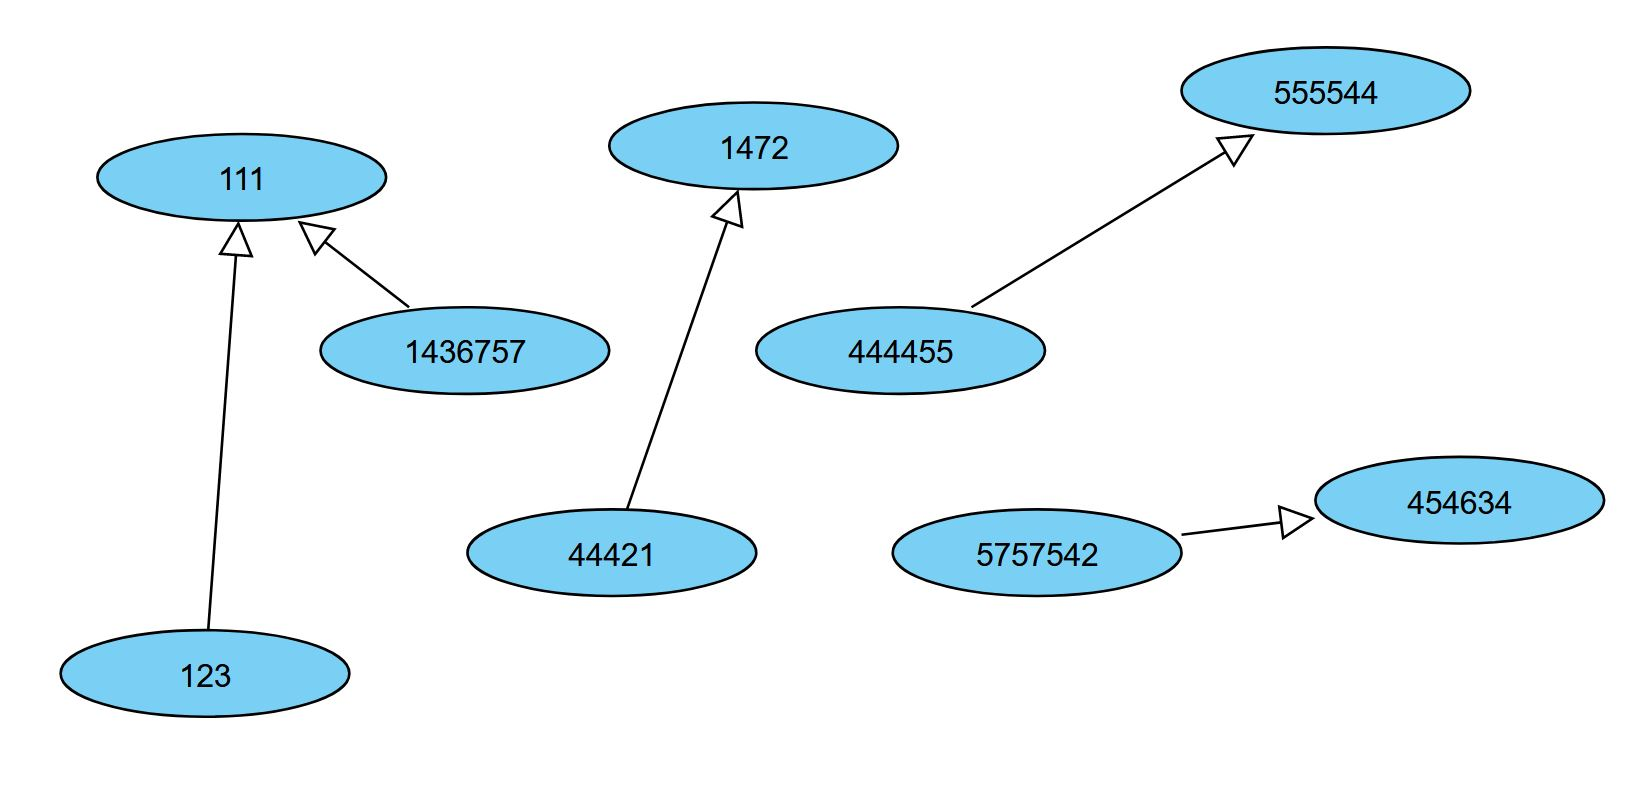generalization: (972, 133, 1256, 306), (627, 187, 742, 506), (208, 221, 262, 627), (295, 220, 410, 310), (1177, 502, 1312, 547)
text: (946, 533, 1112, 576), (395, 330, 535, 370), (838, 327, 960, 372), (1257, 72, 1385, 108), (553, 537, 666, 575), (1398, 490, 1516, 521), (715, 128, 796, 165), (175, 652, 244, 693), (211, 161, 267, 195)
use_case: (464, 508, 758, 599), (59, 628, 351, 719), (94, 133, 389, 222), (754, 306, 1049, 395), (1180, 45, 1471, 135), (319, 305, 612, 394), (893, 508, 1182, 597), (1315, 456, 1607, 543), (607, 101, 899, 187)
